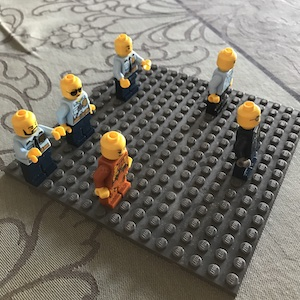Lego: (10, 108, 59, 186), (92, 132, 132, 209), (57, 73, 95, 147), (111, 33, 151, 101), (230, 100, 262, 181), (204, 48, 237, 115)
